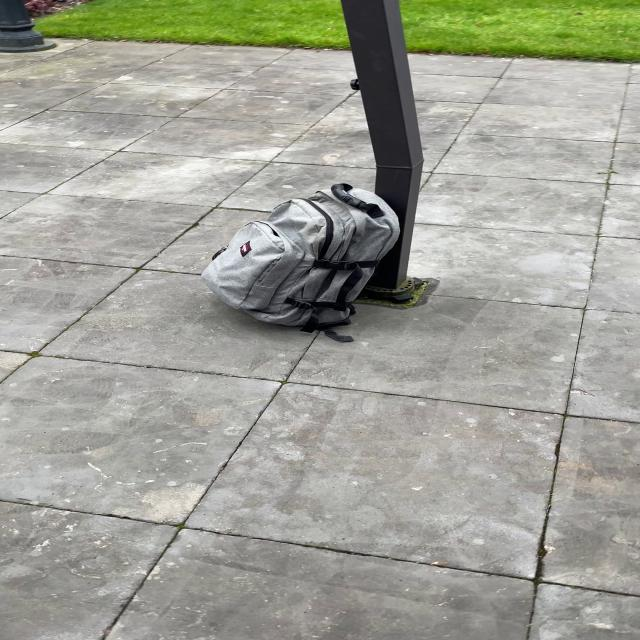backpack: (190, 180, 417, 336)
